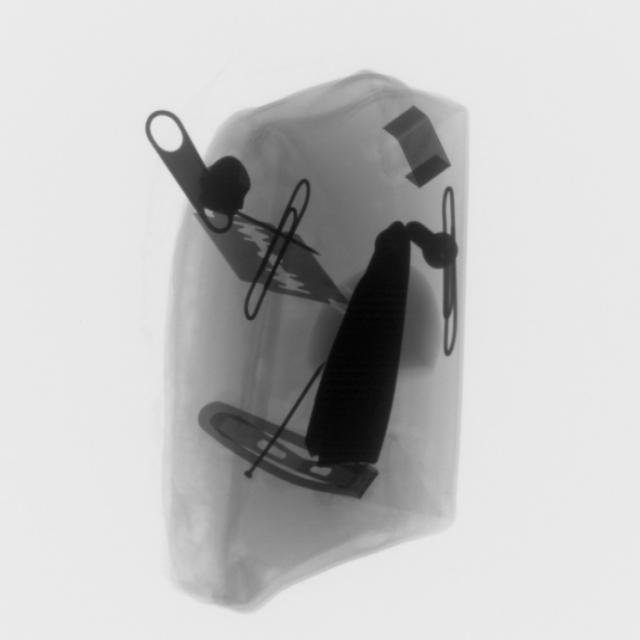BLADE: (244, 427, 374, 508)
